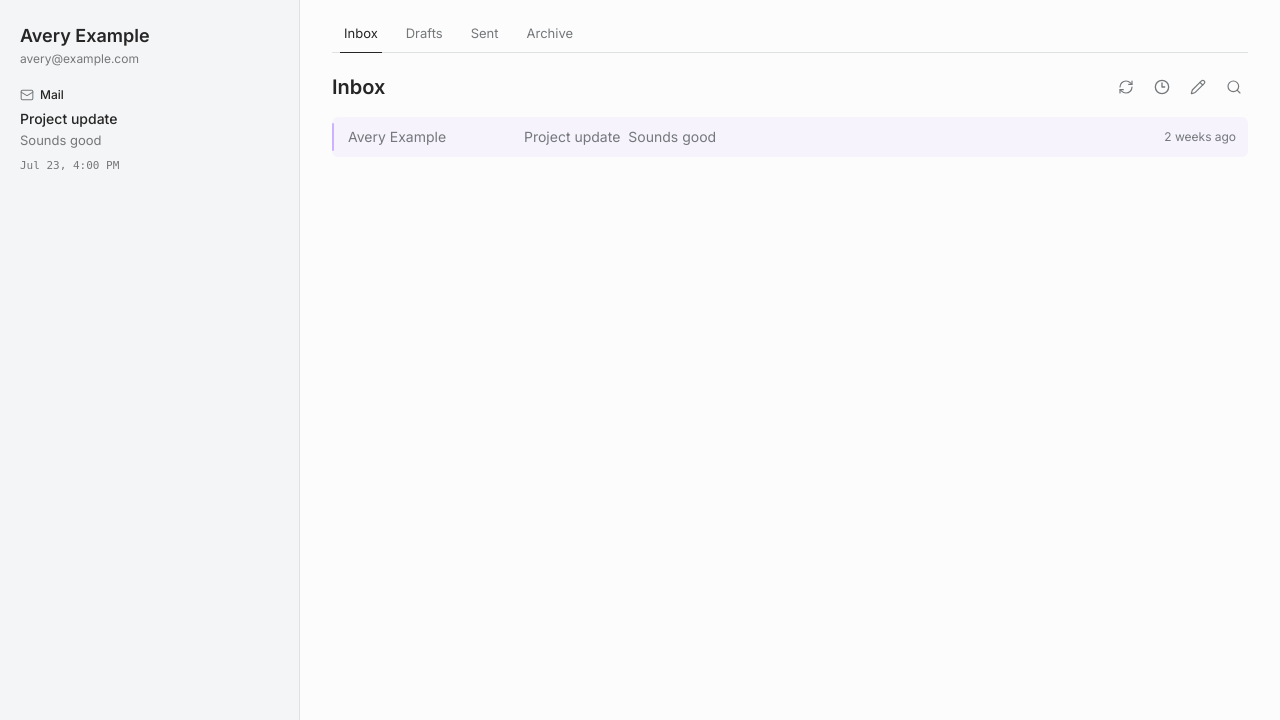
Test case: MailInbox › shows recipients instead of the sender in Sent
Click the button "Sent".
click(485, 38)  # box [459,24,511,52]
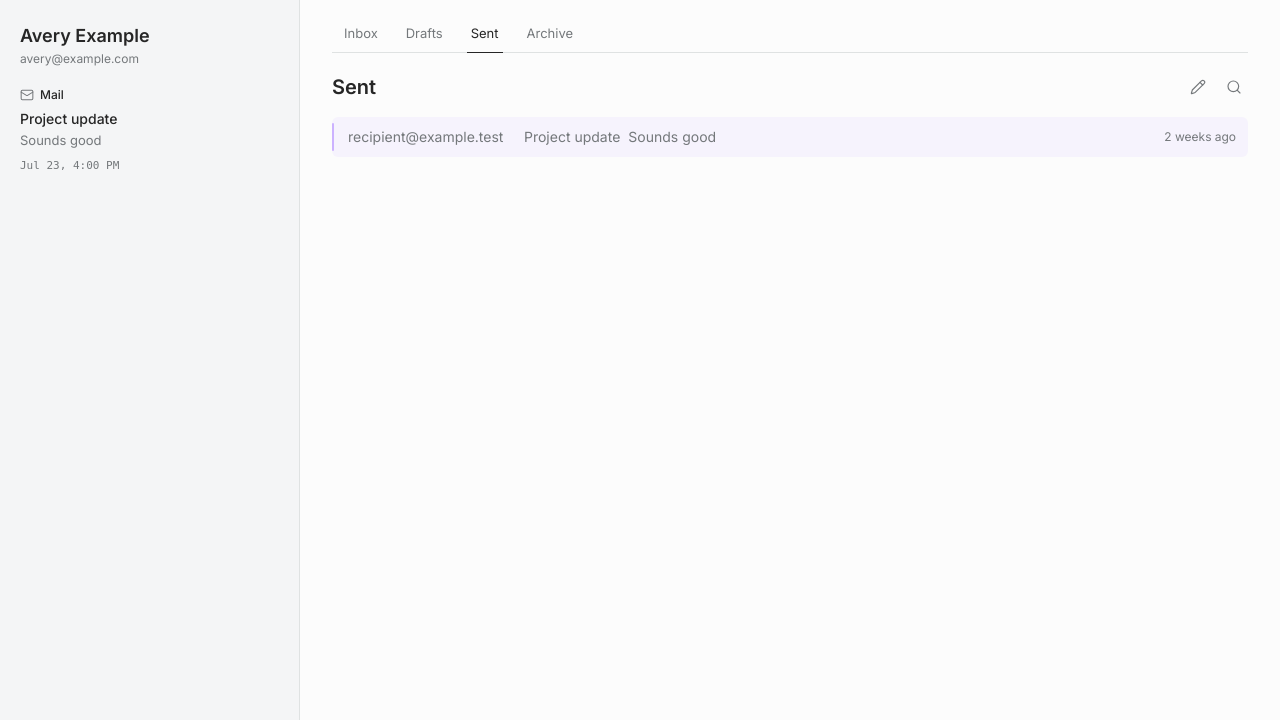
Expected: the link does not show "Avery Example", [332,116,1248,156]
Expected: the link shows "recipient@example.test", [332,116,1248,156]
